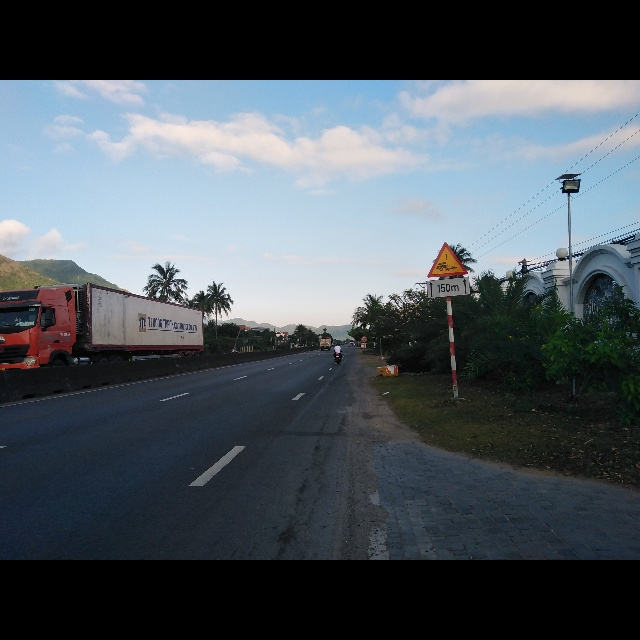Đoạn đường hay xảy ra tai nạn: (427, 240, 468, 279)
